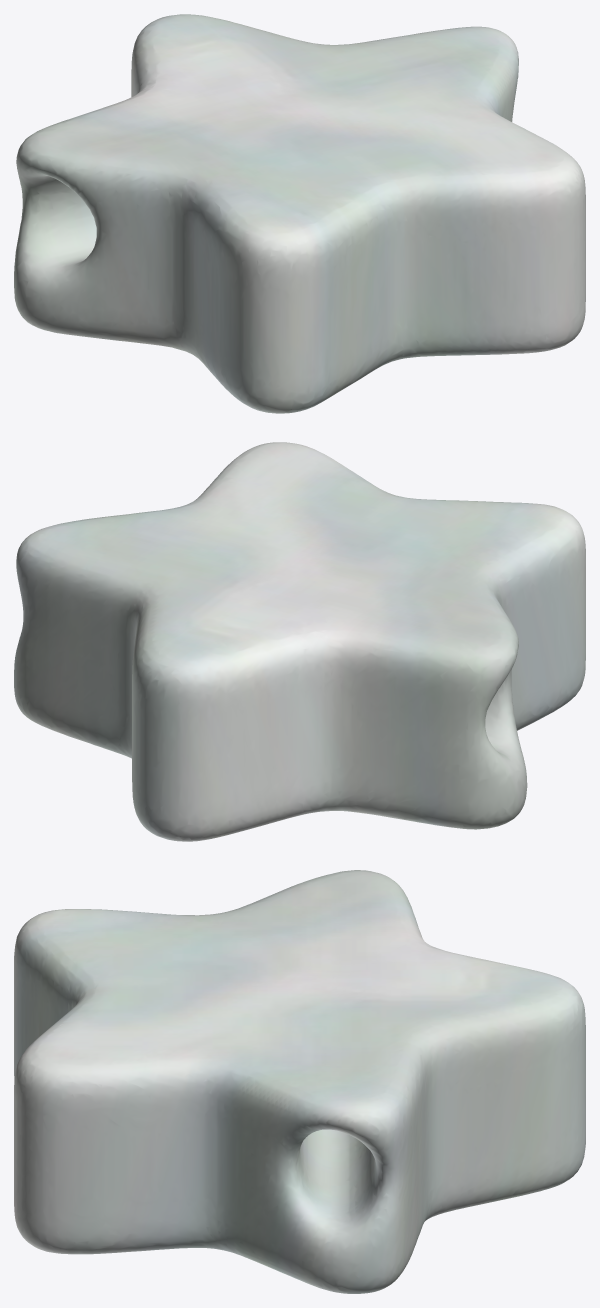
File: pearl_star.glb
3 renders of one model, top to bottom at view 1: azimuth 30°, elevation 25°; view 2: azimuth 150°, elevation 25°; view 3: azimuth 270°, elevation 25°, orthographic. The views are drawn at different scales.
Visible parts, largest first — view 1: StarBead; view 2: StarBead; view 3: StarBead.
Part boxes in pixels (x1,y1,x2,y2): StarBead: (14,14,585,413); StarBead: (14,442,585,841); StarBead: (14,870,585,1293).
Size of the model in its own units: 5.81 by 2.04 by 5.52.
1 material, 1 textured.
